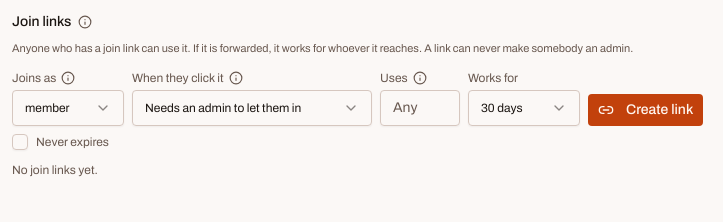
GroupJoinLinks › shows an alert and adds nothing to the list when the 201 response fails schema parsing
This screenshot has width=723, height=222.
Click the button "Create link" at (646, 110), box x1=588 y1=94 x2=703 y2=126
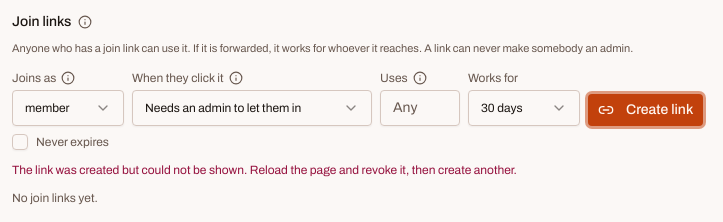
Expected: the text "No join links yet." is shown, x1=12 y1=191 x2=98 y2=205
Expected: the message shows "The link was created but could not be shown. Reload the page and revoke it, then create another.", x1=12 y1=163 x2=517 y2=177
